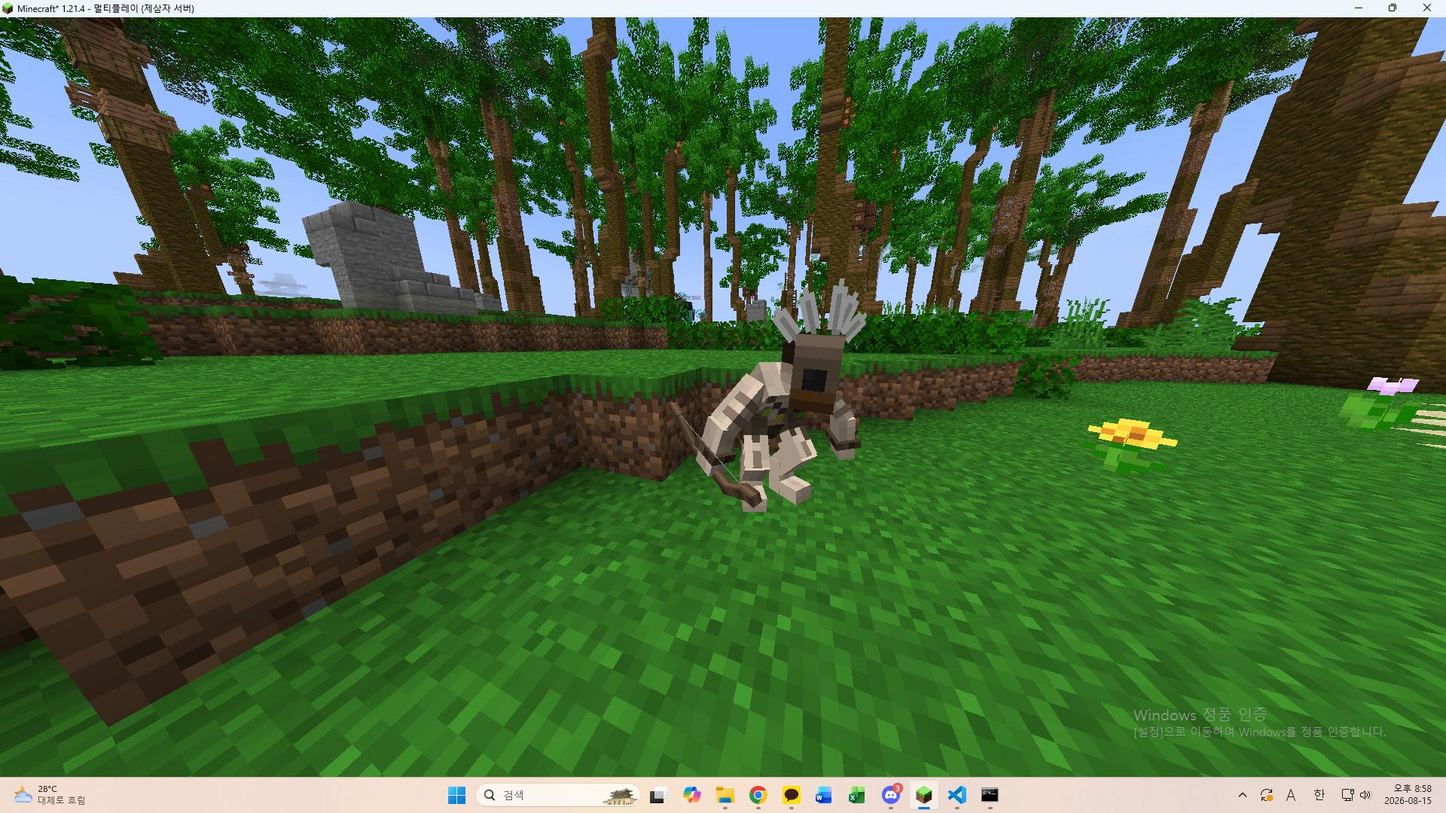bow_indian: (649, 288, 918, 569)
